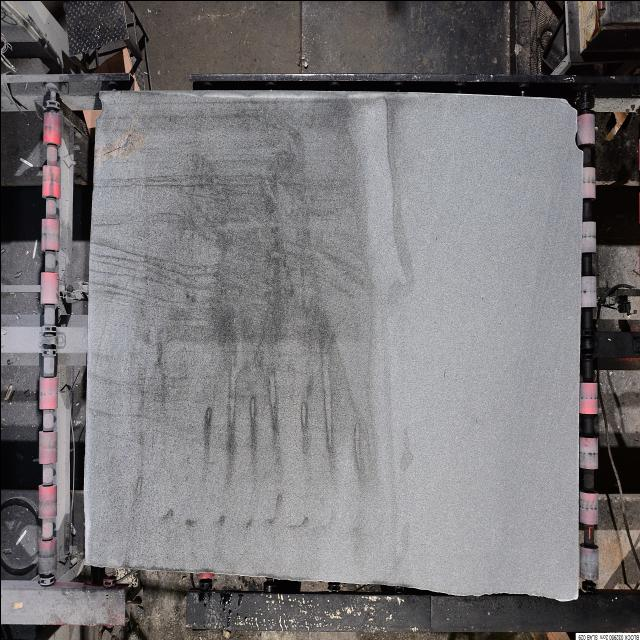chapa: (84, 91, 581, 599)
